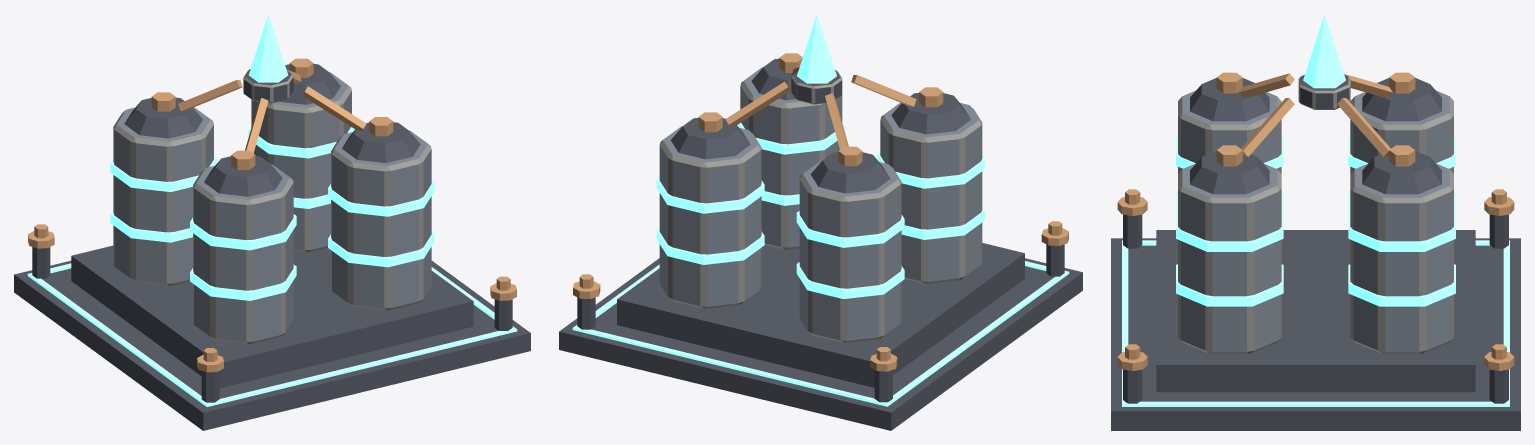
Rendered from acumulador_sem_textura.glb.
3 views of the same model, side by side, from view 1: azimuth 30°, elevation 25°; view 2: azimuth 150°, elevation 25°; view 3: azimuth 270°, elevation 25° (orthographic). The views are drawn at different scales.
Visible parts, largest first — view 1: acumulador_corpo, acumulador_cristal; view 2: acumulador_corpo, acumulador_cristal; view 3: acumulador_corpo, acumulador_cristal.
Part boxes in pixels (bbox=[...]): acumulador_corpo: bbox=[14, 58, 530, 430]; acumulador_cristal: bbox=[248, 14, 288, 82]; acumulador_corpo: bbox=[559, 53, 1082, 430]; acumulador_cristal: bbox=[797, 14, 836, 83]; acumulador_corpo: bbox=[1111, 72, 1520, 430]; acumulador_cristal: bbox=[1303, 14, 1345, 88].
Bounding box in the file's own units: 1.9 × 1.69 × 1.9.
